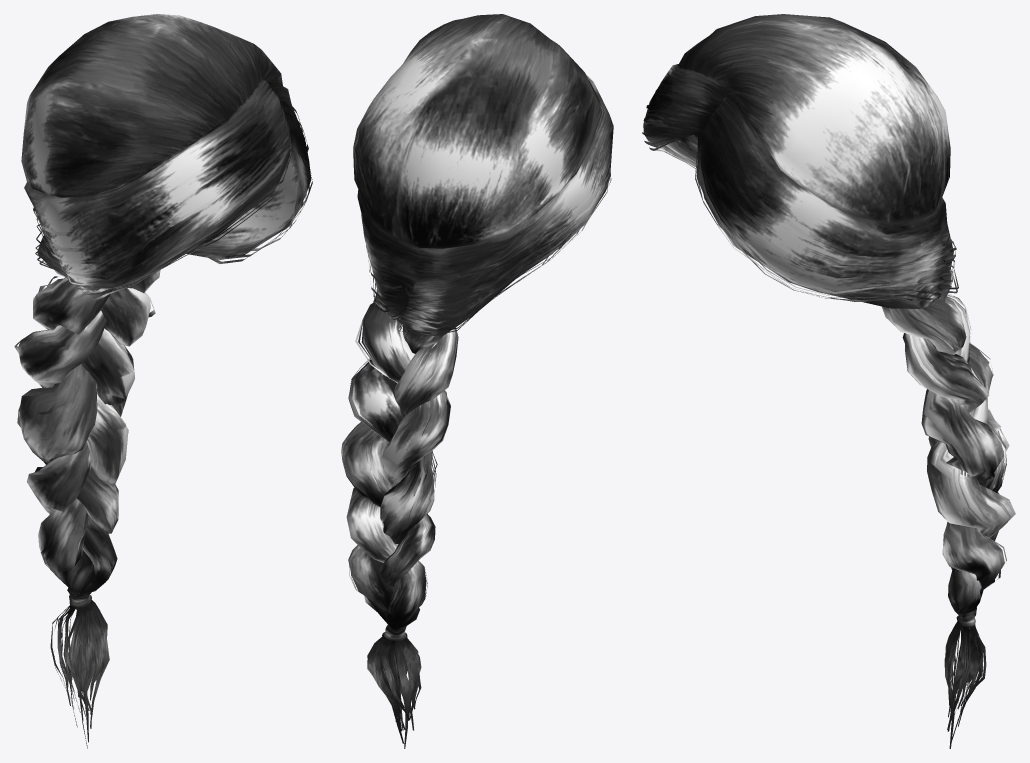
File: hair_braid01.gltf
3 renders of one model, left to right at view 1: azimuth 30°, elevation 25°; view 2: azimuth 150°, elevation 25°; view 3: azimuth 270°, elevation 25°, orthographic. The views are drawn at different scales.
Parts seen in each view (by area): view 1: hair_braid01; view 2: hair_braid01; view 3: hair_braid01.
Boxes of the visible parts, bbox=[...] form: hair_braid01: bbox=[14, 14, 312, 748]; hair_braid01: bbox=[341, 14, 613, 748]; hair_braid01: bbox=[642, 14, 1015, 748].
Bounding box in the file's own units: 0.1966 × 0.6271 × 0.2932.
1 material, 1 textured.
